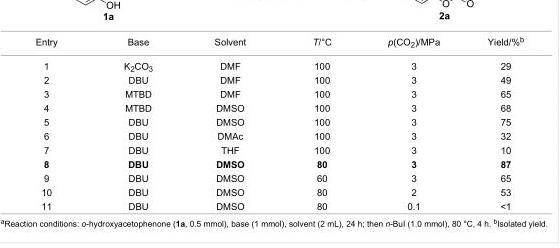table: (34, 34, 523, 211)
table column: (358, 34, 462, 211), (182, 34, 278, 211), (89, 34, 182, 211), (278, 34, 358, 211), (462, 34, 523, 211), (34, 34, 89, 211)
table row: (34, 34, 523, 54), (34, 54, 523, 73), (34, 86, 523, 100), (34, 100, 523, 114), (34, 114, 523, 128), (34, 128, 523, 142), (34, 142, 523, 156), (34, 156, 523, 170), (34, 170, 523, 184), (34, 184, 523, 198), (34, 73, 523, 86), (34, 198, 523, 211)
